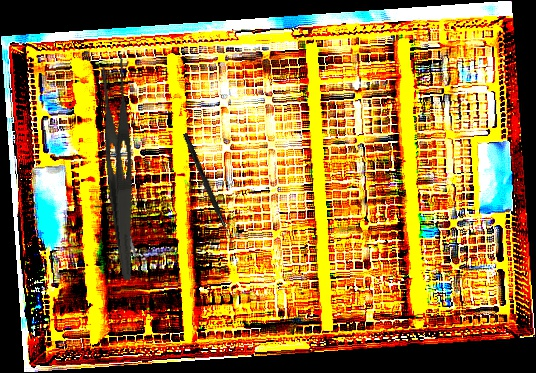Dressing Forceps: (90, 53, 157, 281)
Hook Surgical: (181, 132, 238, 250)
Pusher: (107, 166, 144, 278)
